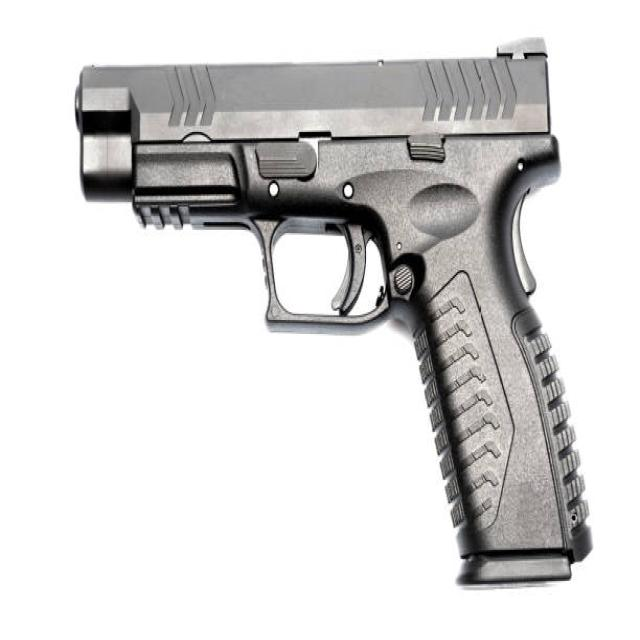pistol: (69, 28, 599, 596)
